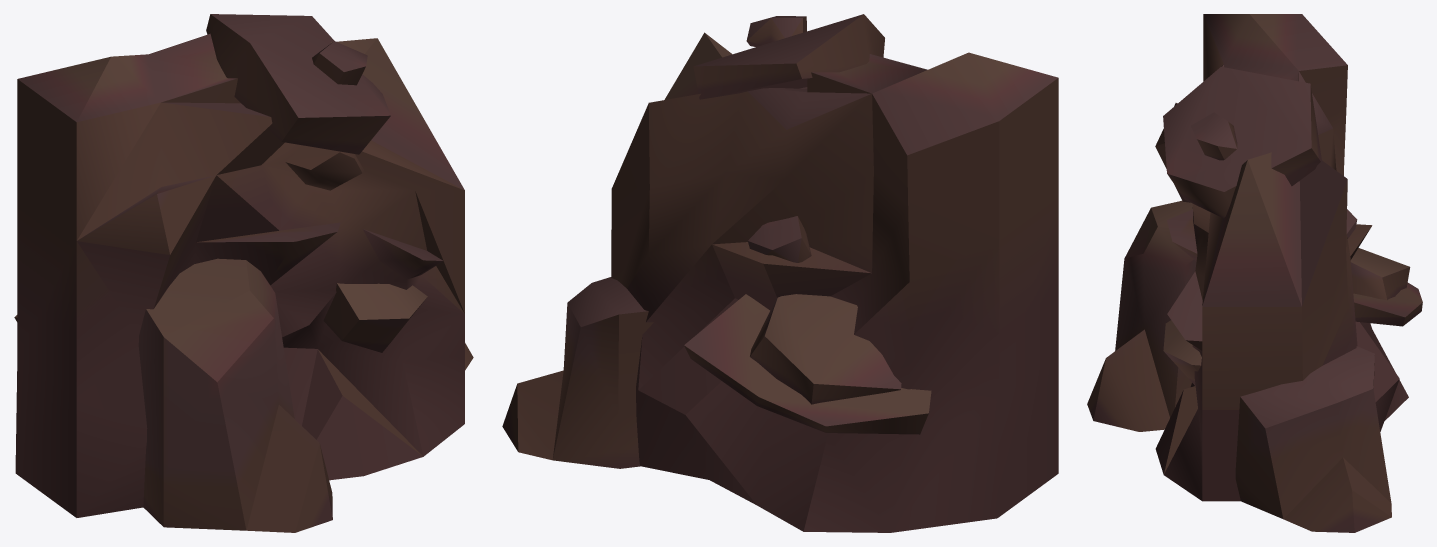
Rendered from rubble.glb.
3 renders of one model, left to right at view 1: azimuth 30°, elevation 25°; view 2: azimuth 150°, elevation 25°; view 3: azimuth 270°, elevation 25°, orthographic. The views are drawn at different scales.
Parts seen in each view (by area): view 1: rubble; view 2: rubble; view 3: rubble.
Part boxes in pixels (left/top/right/bottom): rubble: left=14, top=14, right=473, bottom=532; rubble: left=502, top=14, right=1058, bottom=532; rubble: left=1087, top=14, right=1422, bottom=532.
Bounding box in the file's own units: 4 × 3.5 × 3.
Materials: 1 (1 with a texture image).
